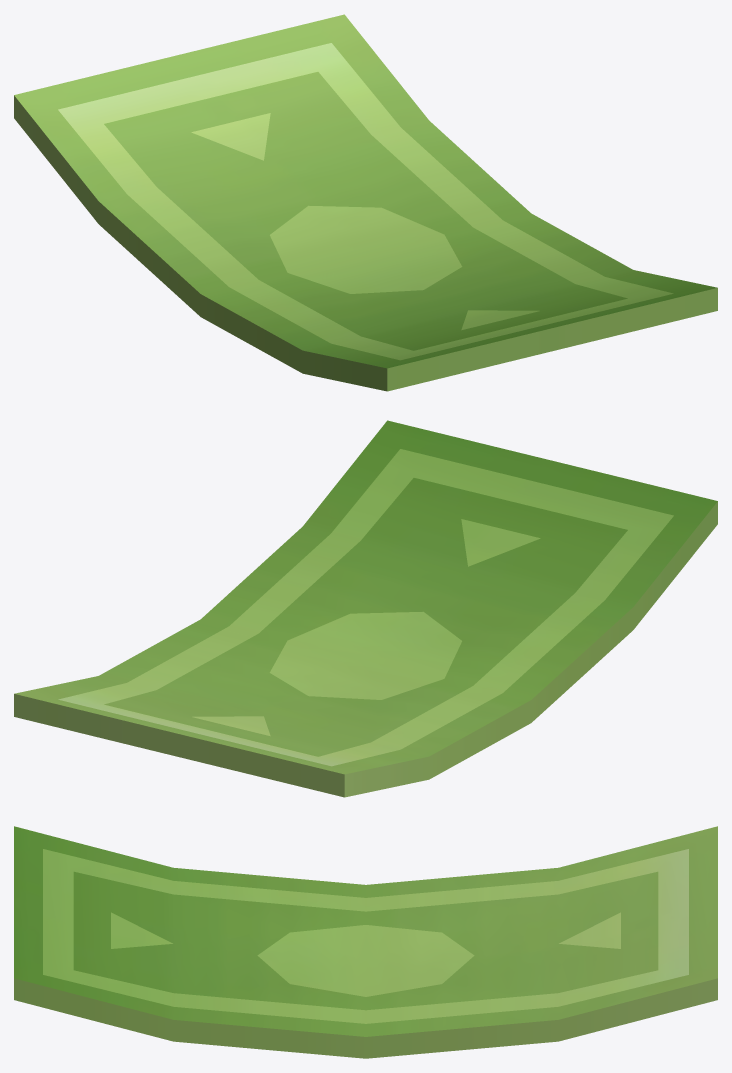
The model's file is money_bill_arched.glb.
The picture shows the model from 3 angles, top to bottom: view 1: azimuth 30°, elevation 25°; view 2: azimuth 150°, elevation 25°; view 3: azimuth 270°, elevation 25°; orthographic projection. The views are drawn at different scales.
Visible parts, largest first — view 1: Money_Bill_Arched; view 2: Money_Bill_Arched; view 3: Money_Bill_Arched.
Boxes of the visible parts, x1=… form: Money_Bill_Arched: x1=14, y1=14, x2=717, y2=391; Money_Bill_Arched: x1=14, y1=420, x2=717, y2=797; Money_Bill_Arched: x1=14, y1=826, x2=717, y2=1058.
Size of the model in its own units: 0.3 by 0.074 by 0.5868.
Materials: 1 (1 with a texture image).
